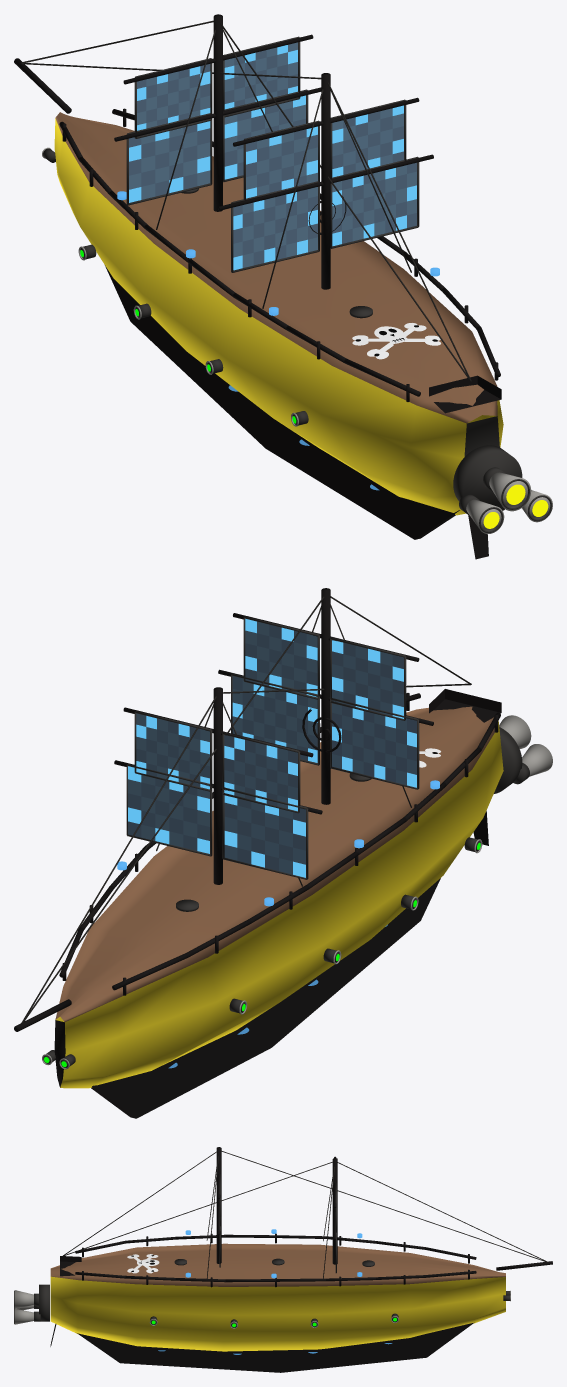
Rendered from Ship_Pirate_2.glb.
The picture shows the model from 3 angles, top to bottom: view 1: azimuth 30°, elevation 25°; view 2: azimuth 150°, elevation 25°; view 3: azimuth 270°, elevation 25°; orthographic projection. The views are drawn at different scales.
Parts seen in each view (by area): view 1: Hull_MetalSailingShipBody, SolarPanelSail_Main_01_RigidHeritageArray, Keel_DeepSpaceSailingKeel, SolarPanelSail_Fore_01_RigidHeritageArray, SolarPanelSail_Main_02_RigidHeritageArray, SolarPanelSail_Fore_02_RigidHeritageArray, EngineDeck_AftTransomArmoredMount, Mast_Main_DarkMetalHeritageSpar, Mast_Fore_DarkMetalHeritageSpar, SternTransom_LowReinforcedAftDeckCap, Yard_Main_01_SolarPanelCrossSpar, Yard_Fore_01_SolarPanelCrossSpar (+6 smaller); view 2: Hull_MetalSailingShipBody, Keel_DeepSpaceSailingKeel, SolarPanelSail_Fore_01_RigidHeritageArray, SolarPanelSail_Main_01_RigidHeritageArray, SolarPanelSail_Main_02_RigidHeritageArray, SolarPanelSail_Fore_02_RigidHeritageArray, Mast_Main_DarkMetalHeritageSpar, Mast_Fore_DarkMetalHeritageSpar, SternTransom_LowReinforcedAftDeckCap, RiggingStay_Main_ForwardTautLine, EngineDeck_AftTransomArmoredMount, RiggingStay_Fore_ForwardTautLine (+2 smaller); view 3: Hull_MetalSailingShipBody, Keel_DeepSpaceSailingKeel, Mast_Main_DarkMetalHeritageSpar, RiggingStay_Main_ForwardTautLine, Mast_Fore_DarkMetalHeritageSpar, EngineDeck_AftTransomArmoredMount, RiggingStay_Fore_AftTautLine, RiggingStay_Fore_ForwardTautLine, EngineBell_CenterUpper_IronRocketNozzle.
Boxes of the visible parts, x1,y1,x2,y2 form: Hull_MetalSailingShipBody: (54, 112, 503, 515); SolarPanelSail_Main_01_RigidHeritageArray: (233, 162, 416, 270); Keel_DeepSpaceSailingKeel: (105, 265, 459, 539); SolarPanelSail_Fore_01_RigidHeritageArray: (129, 95, 305, 202); SolarPanelSail_Main_02_RigidHeritageArray: (246, 105, 403, 198); SolarPanelSail_Fore_02_RigidHeritageArray: (137, 42, 297, 130); EngineDeck_AftTransomArmoredMount: (453, 445, 522, 510); Mast_Main_DarkMetalHeritageSpar: (321, 73, 330, 289); Mast_Fore_DarkMetalHeritageSpar: (213, 14, 222, 211); SternTransom_LowReinforcedAftDeckCap: (429, 375, 501, 413); Yard_Main_01_SolarPanelCrossSpar: (218, 154, 433, 210); Yard_Fore_01_SolarPanelCrossSpar: (114, 87, 321, 141); Hull_MetalSailingShipBody: (54, 706, 503, 1088); Keel_DeepSpaceSailingKeel: (91, 878, 440, 1118); SolarPanelSail_Fore_01_RigidHeritageArray: (128, 766, 305, 877); SolarPanelSail_Main_01_RigidHeritageArray: (232, 676, 416, 787); SolarPanelSail_Main_02_RigidHeritageArray: (245, 618, 403, 718); SolarPanelSail_Fore_02_RigidHeritageArray: (136, 713, 297, 811); Mast_Main_DarkMetalHeritageSpar: (321, 588, 330, 804); Mast_Fore_DarkMetalHeritageSpar: (213, 687, 222, 884); SternTransom_LowReinforcedAftDeckCap: (429, 689, 501, 722); RiggingStay_Main_ForwardTautLine: (23, 596, 324, 1022); EngineDeck_AftTransomArmoredMount: (494, 727, 522, 793); RiggingStay_Fore_ForwardTautLine: (21, 696, 216, 1023); Hull_MetalSailingShipBody: (50, 1243, 505, 1351); Keel_DeepSpaceSailingKeel: (77, 1322, 474, 1372); Mast_Main_DarkMetalHeritageSpar: (216, 1147, 221, 1263); RiggingStay_Main_ForwardTautLine: (221, 1151, 545, 1261); Mast_Fore_DarkMetalHeritageSpar: (332, 1158, 337, 1264); EngineDeck_AftTransomArmoredMount: (39, 1284, 49, 1321); RiggingStay_Fore_AftTautLine: (63, 1162, 332, 1256); RiggingStay_Fore_ForwardTautLine: (337, 1162, 547, 1261); EngineBell_CenterUpper_IronRocketNozzle: (14, 1290, 33, 1308).
Bounding box in the file's own units: 1.78 × 3.31 × 7.21.
